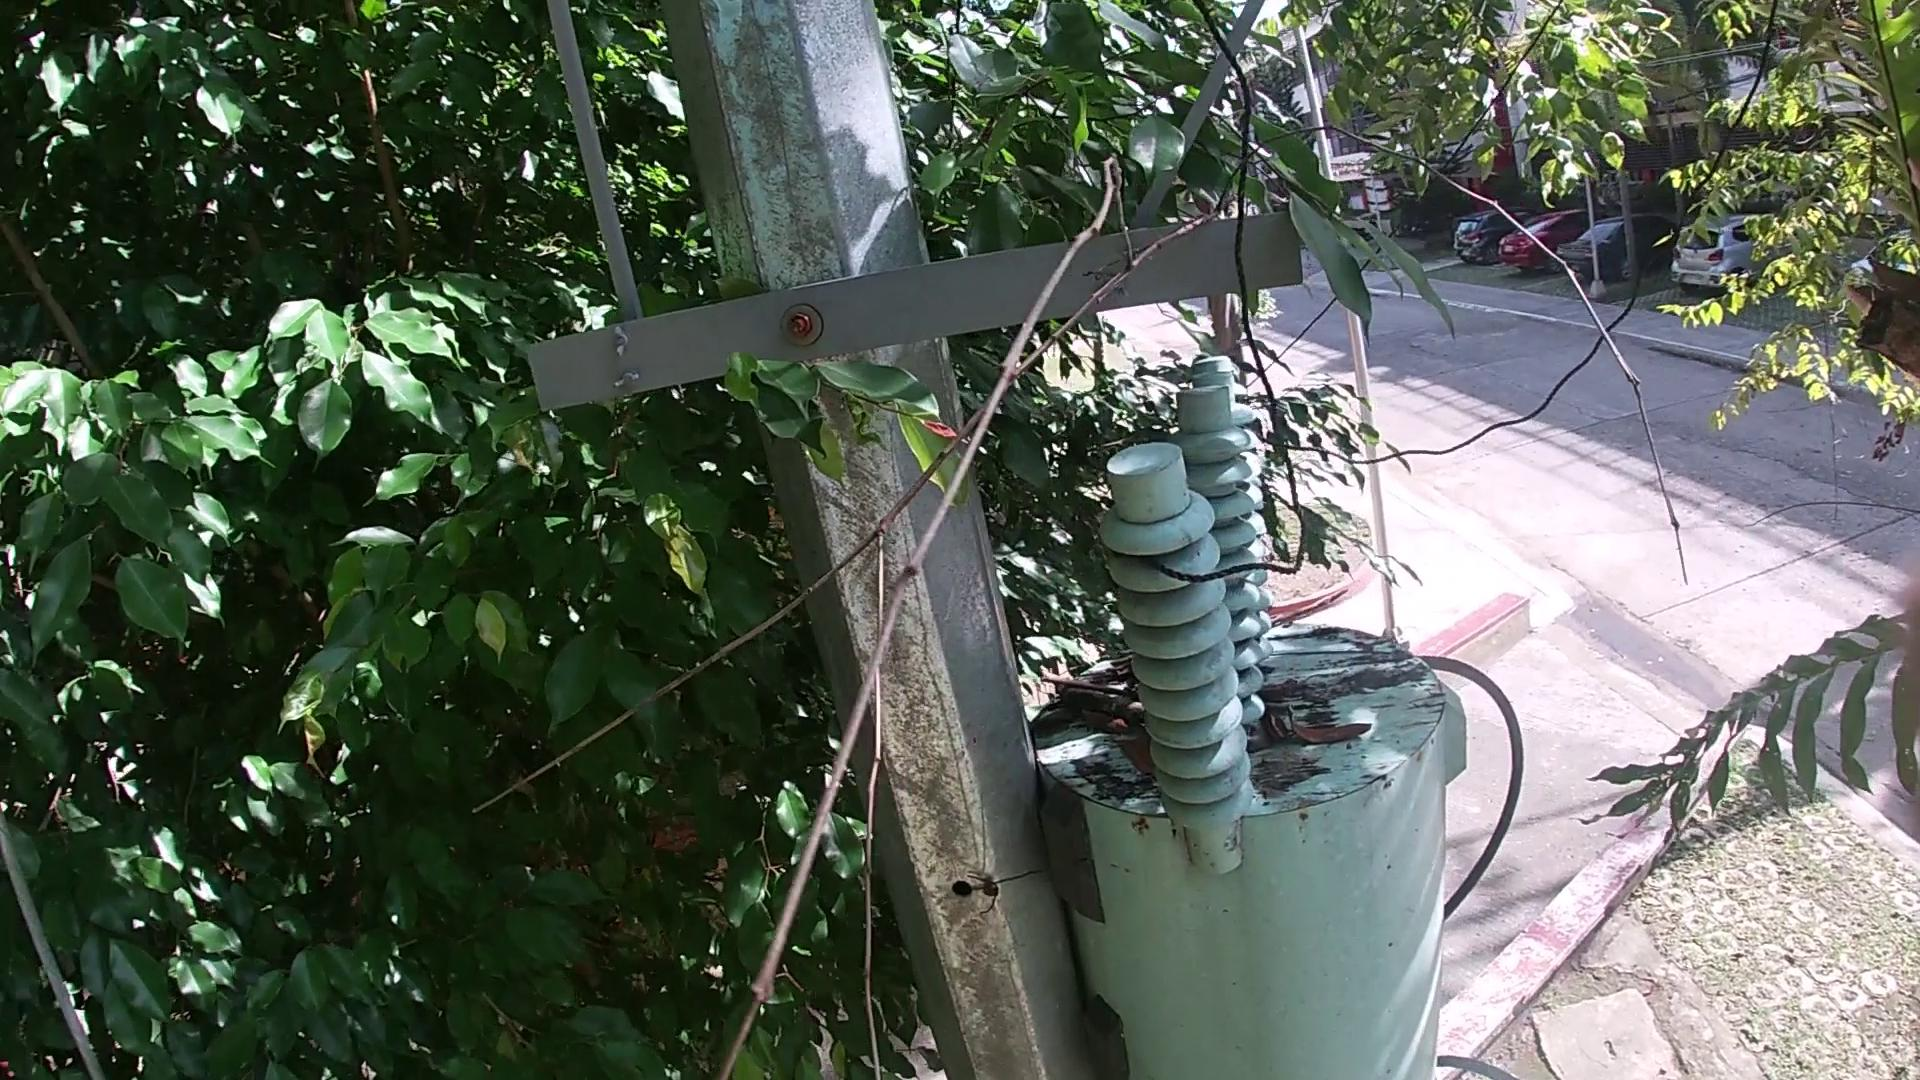leaf: (1284, 699, 1382, 750), (1108, 735, 1163, 790), (1071, 707, 1131, 735)
tree branch: (458, 116, 1701, 1079), (1042, 673, 1145, 723), (1273, 585, 1350, 626)
